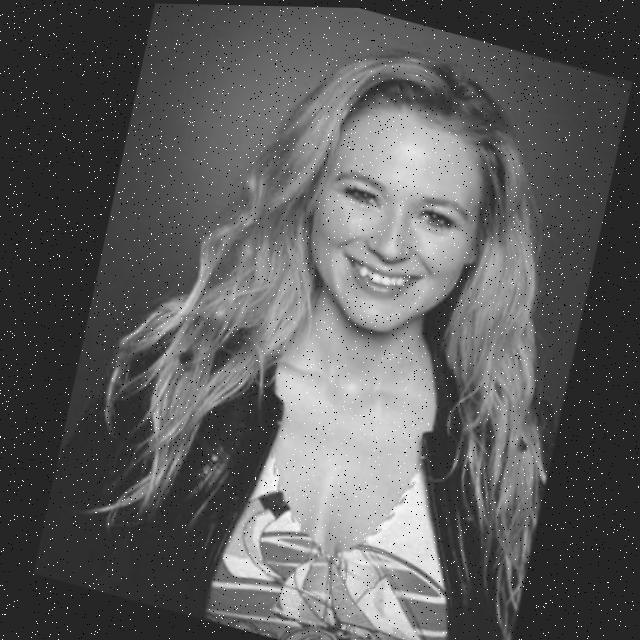face: (279, 81, 529, 370)
